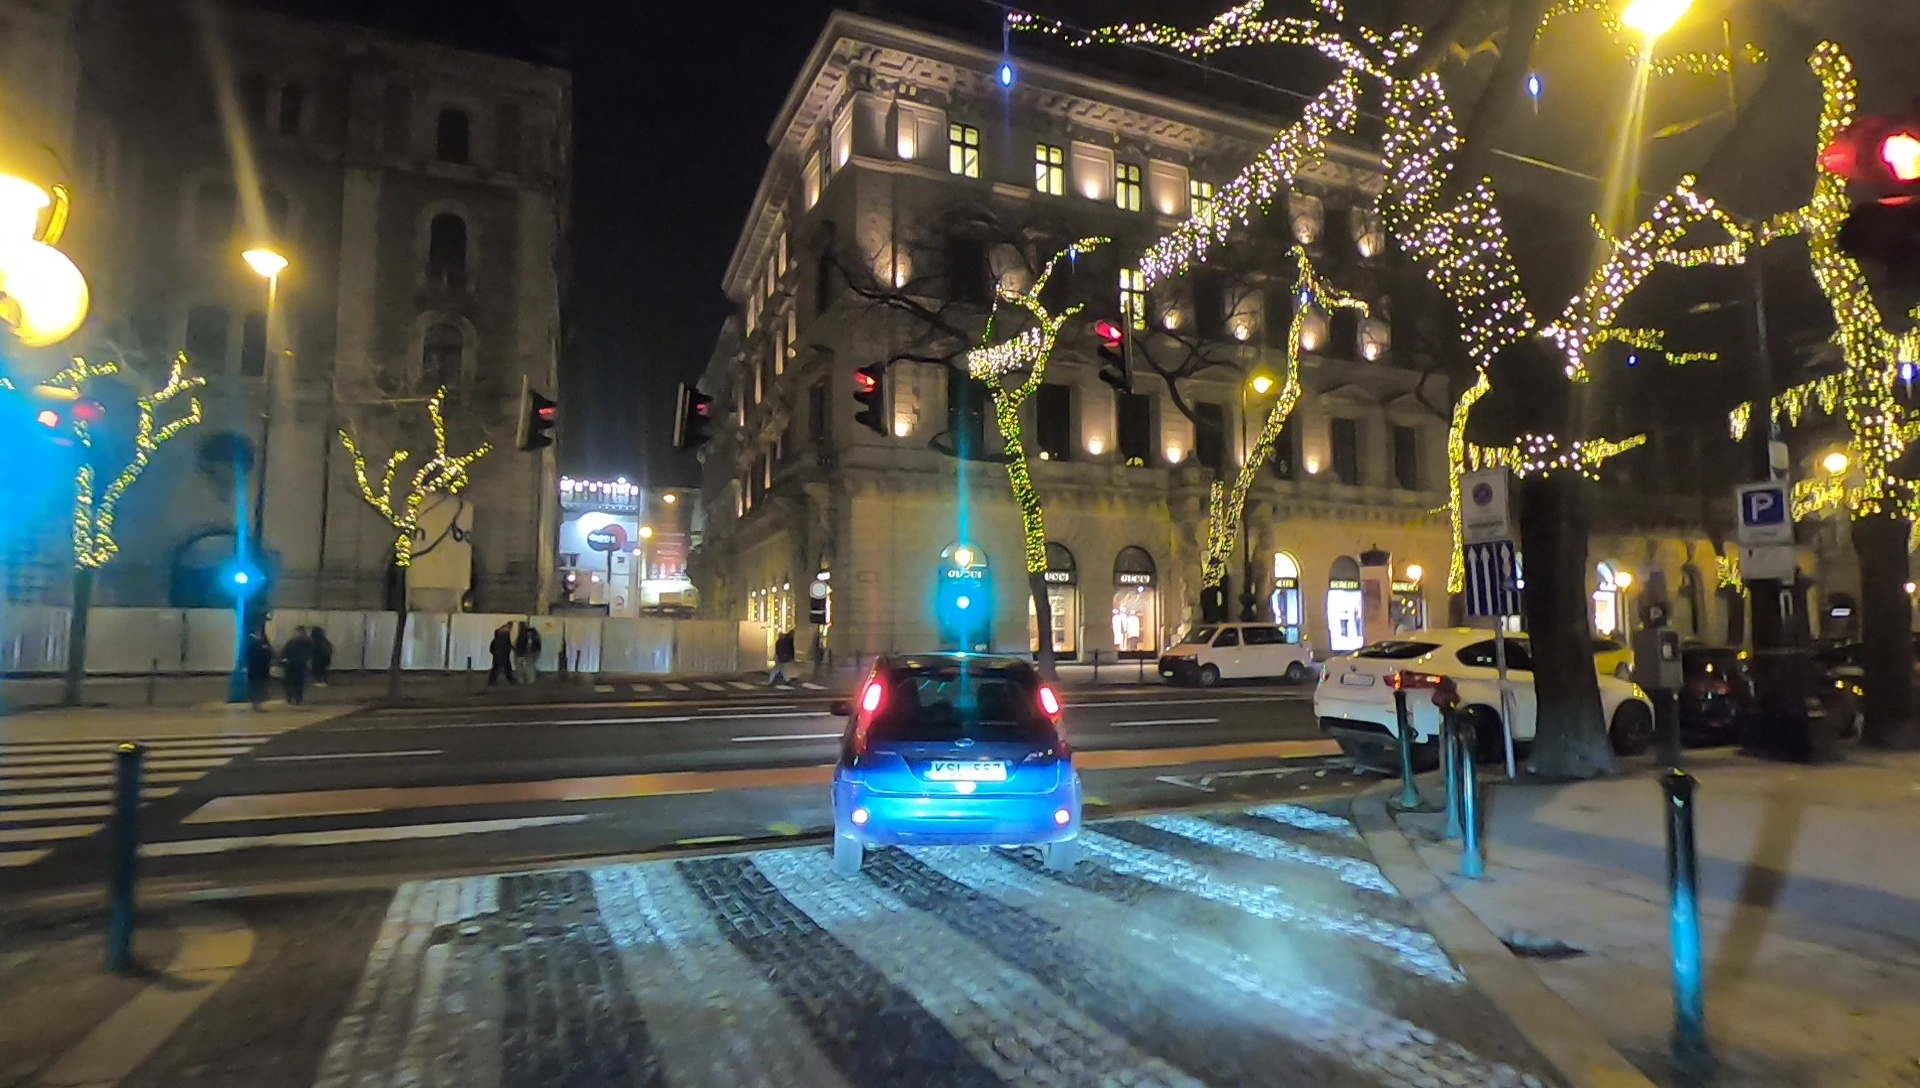person: (279, 626, 310, 712), (247, 629, 275, 710), (487, 618, 517, 689), (770, 620, 797, 689), (309, 622, 332, 690), (516, 618, 538, 684)
